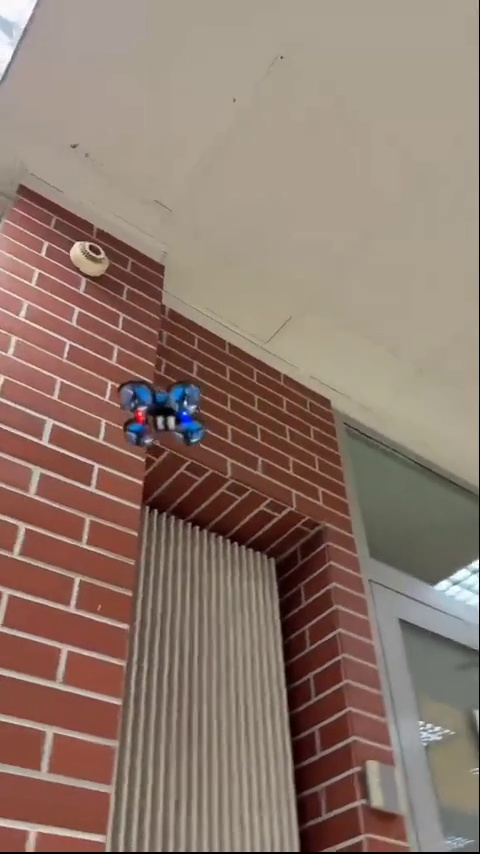drone: (116, 379, 206, 447)
